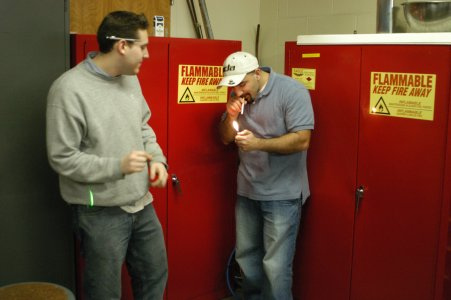person: (220, 53, 316, 300)
